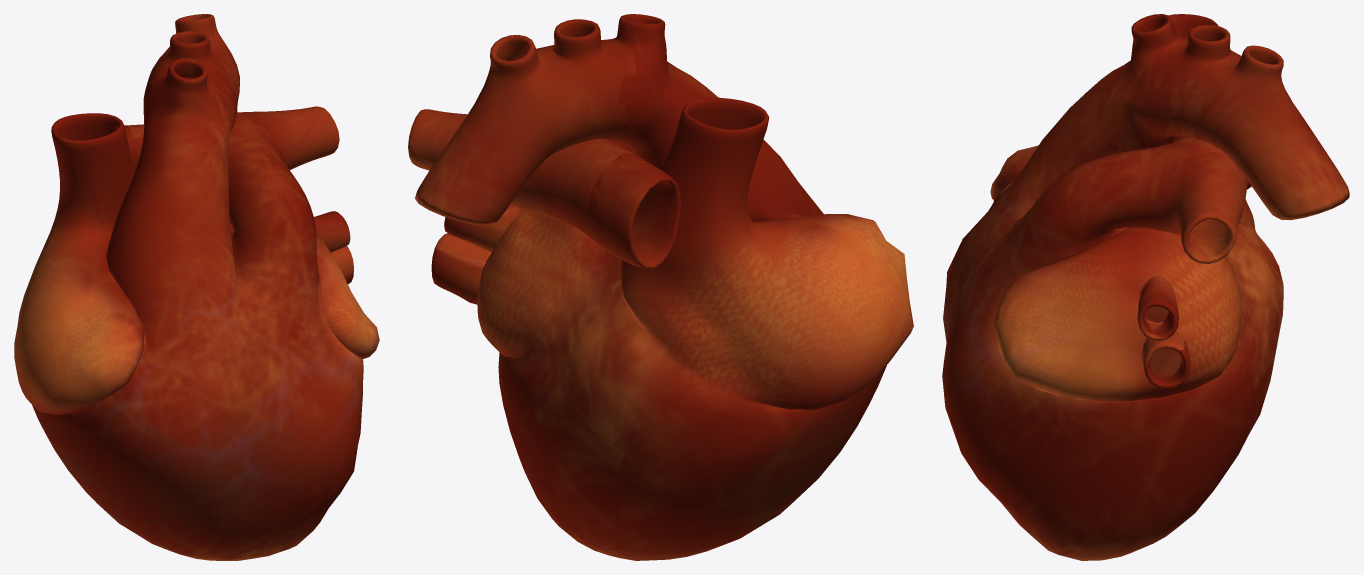
File: corrected-heart.obj
The picture shows the model from 3 angles, left to right: view 1: azimuth 30°, elevation 25°; view 2: azimuth 150°, elevation 25°; view 3: azimuth 270°, elevation 25°; orthographic projection. The views are drawn at different scales.
Visible parts, largest first — view 1: Heart_polySurface2; view 2: Heart_polySurface2; view 3: Heart_polySurface2.
Part boxes in pixels (bbox=[...]): Heart_polySurface2: bbox=[14, 14, 379, 560]; Heart_polySurface2: bbox=[408, 14, 913, 560]; Heart_polySurface2: bbox=[942, 14, 1349, 560].
Size of the model in its own units: 12.42 by 16.28 by 11.5.
